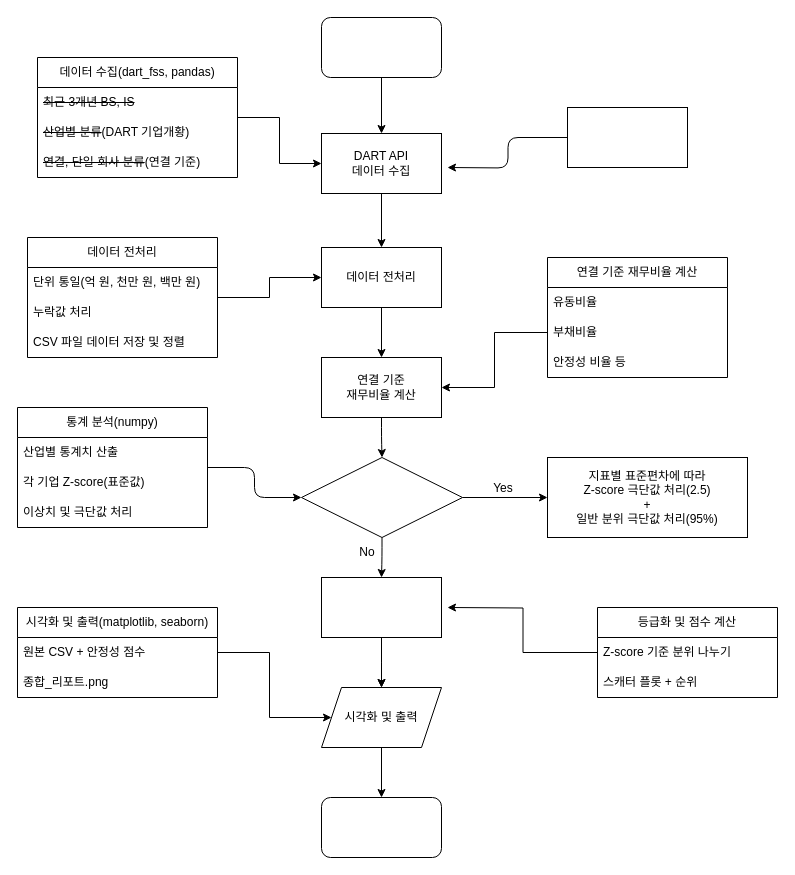
Some shapes in this 795 by 875 pixel diagram are drawn without their labels. The centre of each missing label's shape, as x and y in pixels:
"대상 기업 정하기" goes at (627,137).
"등급화 점수 계산" goes at (381,607).
"시작" goes at (381,47).
"종료" goes at (381,827).
"통계분석 (이상치인가?)" goes at (381,497).
